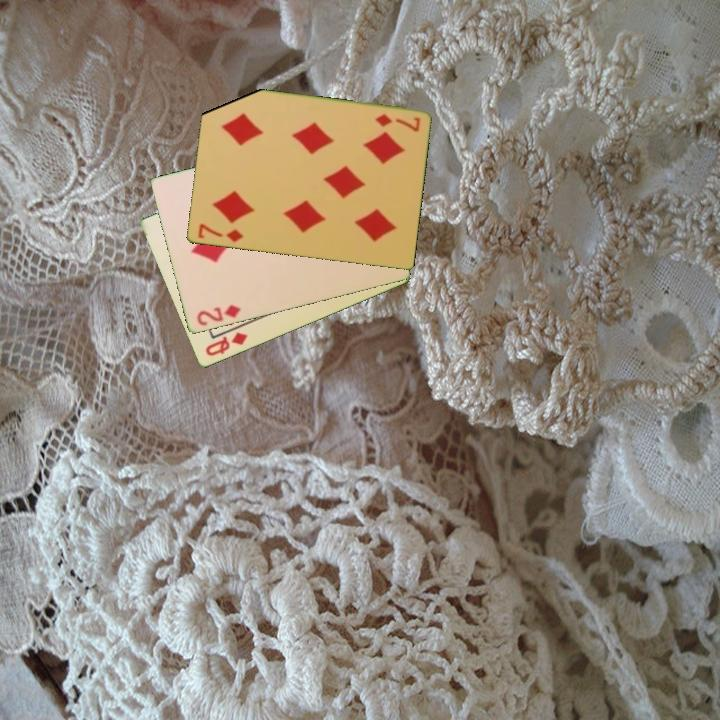2d: (193, 302, 243, 329)
7d: (194, 220, 246, 245), (371, 111, 423, 135)
Qd: (202, 329, 250, 359)
